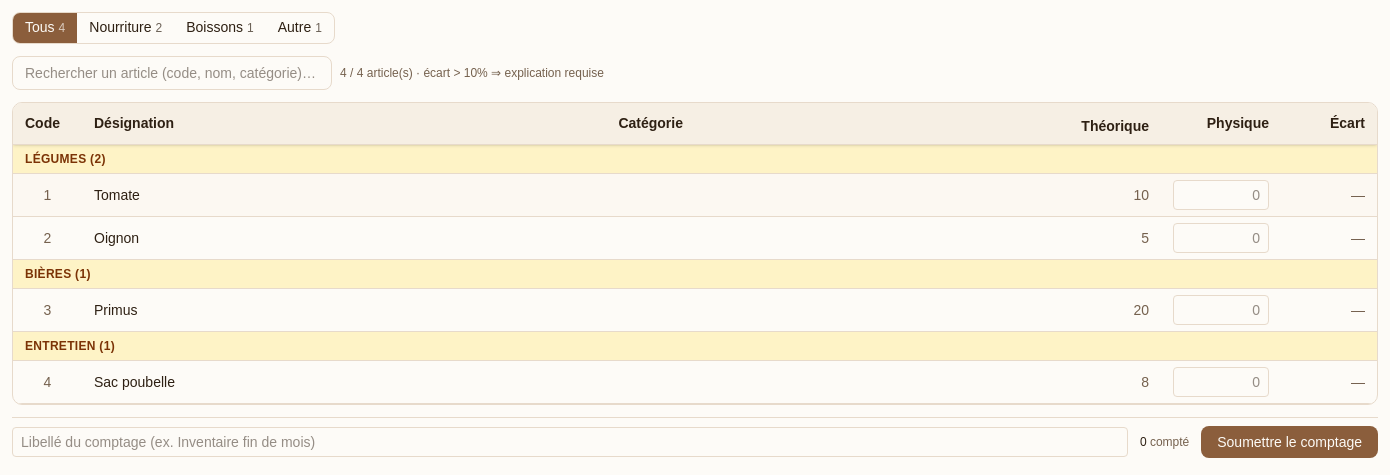
Test: Réconciliation — pilules de domaine › changer de domaine filtre sur place : lignes, compteur et adresse
What coordinates should you click on to do the following:
click the button "Nourriture 2"
I would click on:
 (126, 28)
Its box is 77,13 -> 174,42.
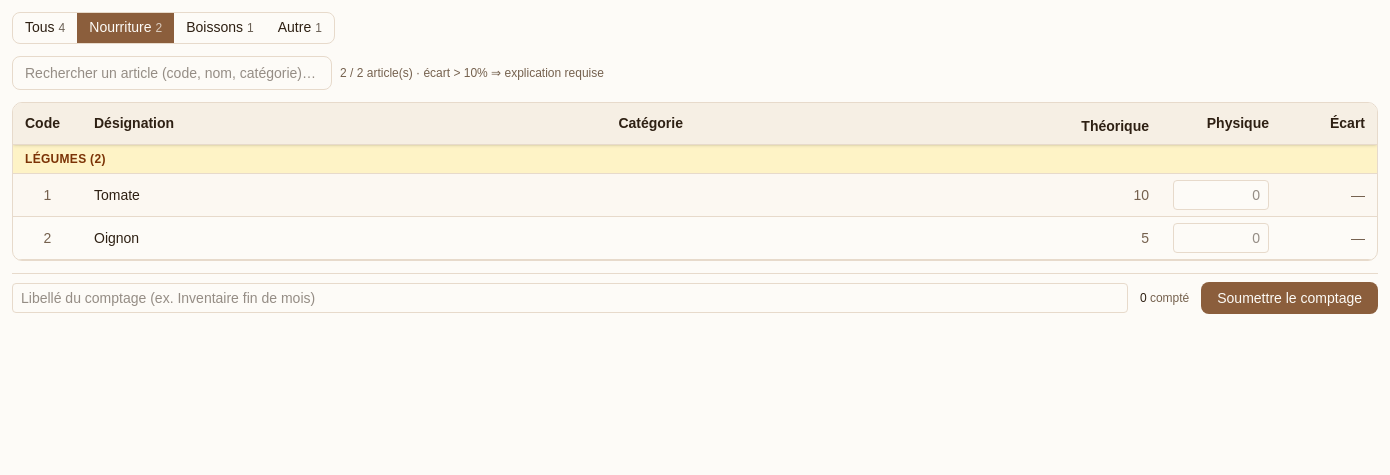
Check: the text "2 / 2 article(s)" is shown, box 340,64 -> 604,80
What coordinates should you click on to do the following:
click the button "Tous 4"
I would click on:
 (45, 28)
Its box is 13,13 -> 77,42.
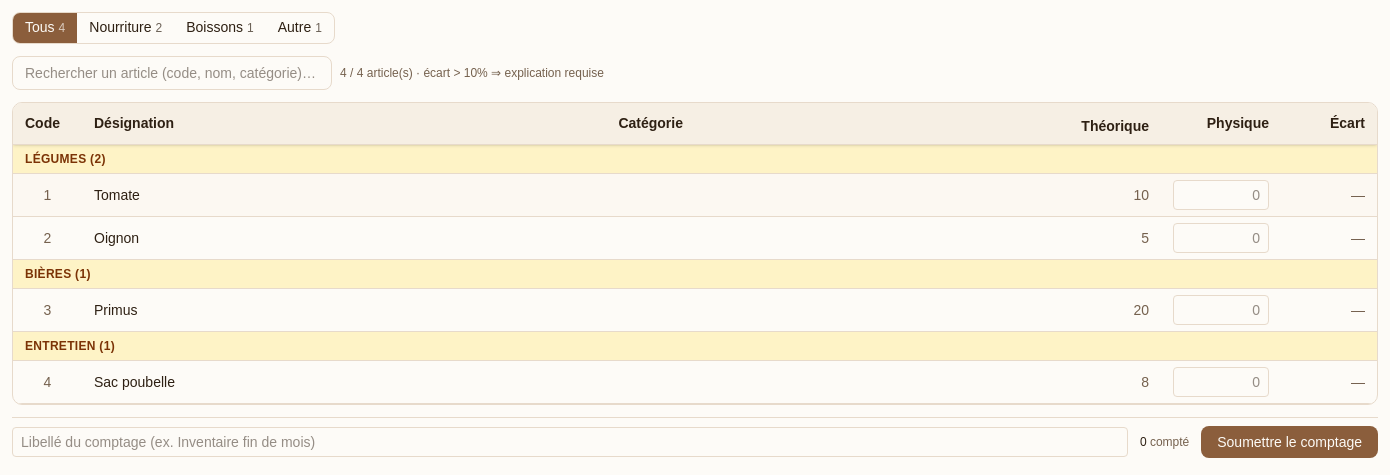
Check: the number of links is 4, box 94,186 -> 140,202; 94,230 -> 139,246; 94,302 -> 138,318; 94,374 -> 175,390
Check: the text "4 / 4 article(s)" is shown, box 340,64 -> 604,80
